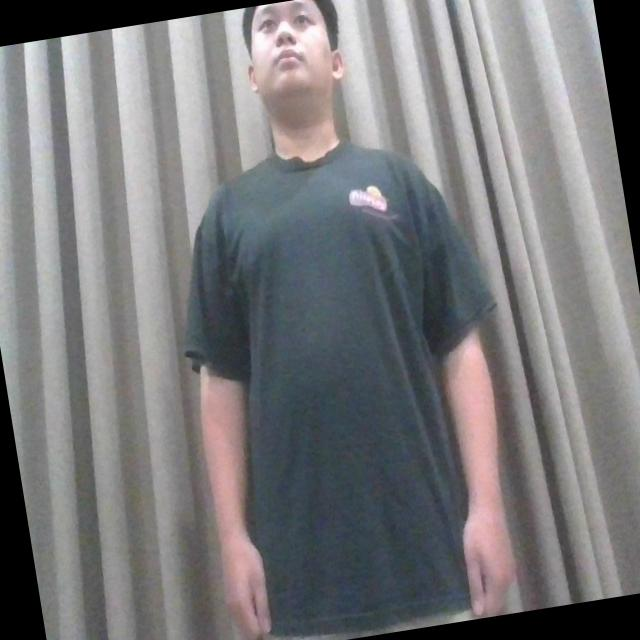T_shirt: (184, 142, 497, 636)
